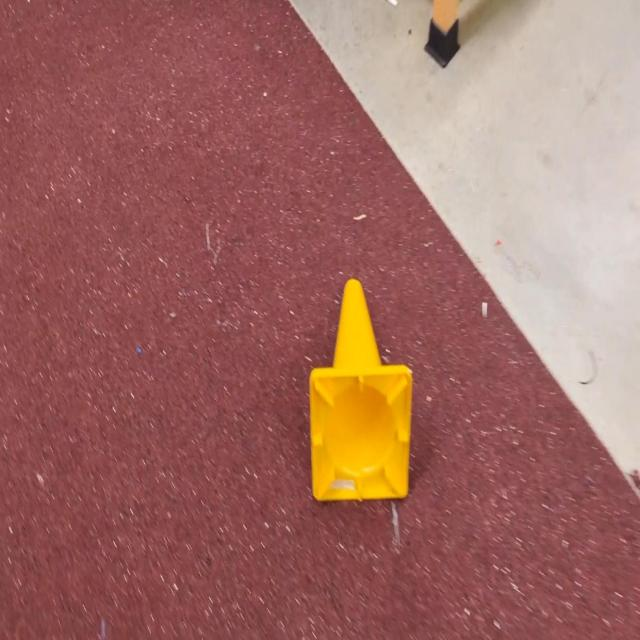frc_cone: (309, 279, 412, 503)
